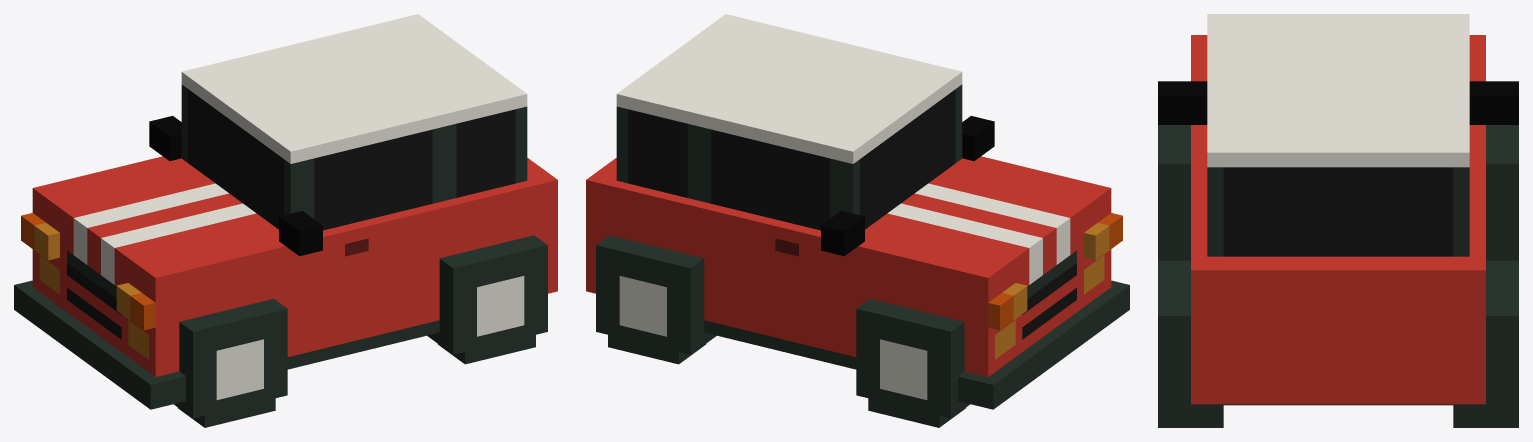
Rendered from car_red_player_len2.glb.
3 renders of one model, left to right at view 1: azimuth 30°, elevation 25°; view 2: azimuth 150°, elevation 25°; view 3: azimuth 270°, elevation 25°, orthographic. The views are drawn at different scales.
Parts seen in each view (by area): view 1: _0; view 2: _0; view 3: _0.
Part boxes in pixels (box(x1,y1,x2,y2)): _0: box(14, 14, 557, 427); _0: box(586, 14, 1129, 427); _0: box(1158, 14, 1518, 427).
Bounding box in the file's own units: 0.0525 × 0.0285 × 0.033.
